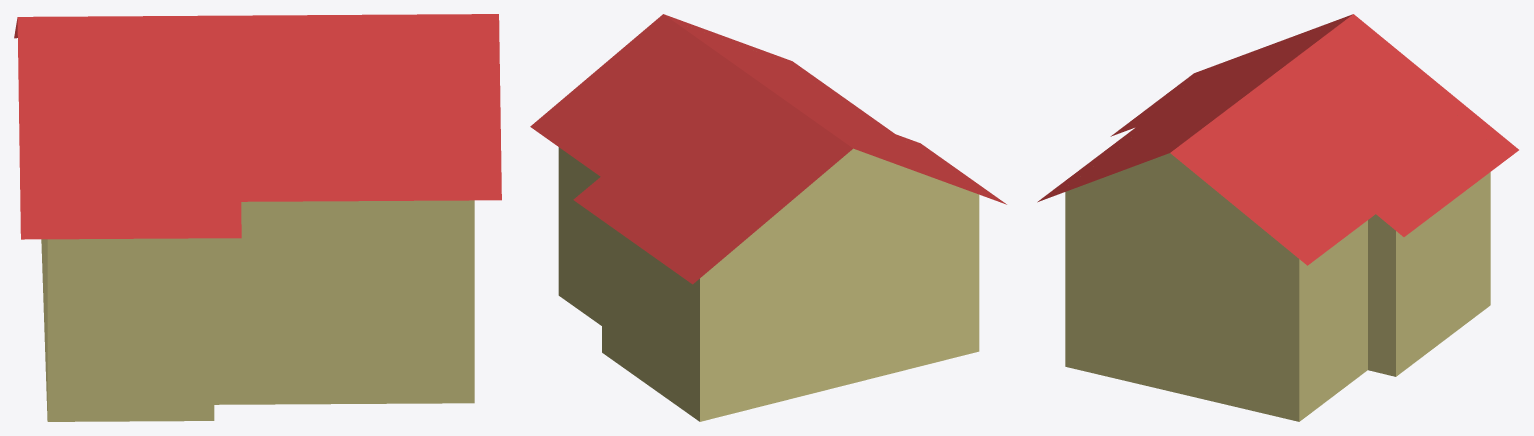
3 renders of one model, left to right at view 1: azimuth 30°, elevation 25°; view 2: azimuth 150°, elevation 25°; view 3: azimuth 270°, elevation 25°, orthographic. The views are drawn at different scales.
Parts seen in each view (by area): view 1: group_5, group_3, group_4; view 2: group_5, group_3, group_4; view 3: group_5, group_3, group_4.
Boxes of the visible parts, x1,y1,x2,y2 form: group_5: [41, 200, 474, 421]; group_3: [14, 14, 501, 238]; group_4: [15, 14, 501, 239]; group_5: [558, 147, 979, 421]; group_3: [530, 14, 978, 283]; group_4: [615, 14, 1006, 284]; group_5: [1065, 153, 1490, 421]; group_3: [1066, 14, 1518, 265]; group_4: [1037, 14, 1518, 204].
Size of the model in its own units: 17.55 by 17.14 by 9.73.
